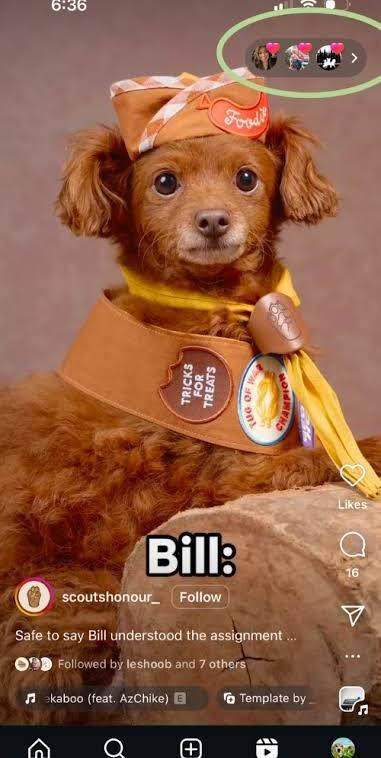puppy-dog: (1, 109, 374, 591)
